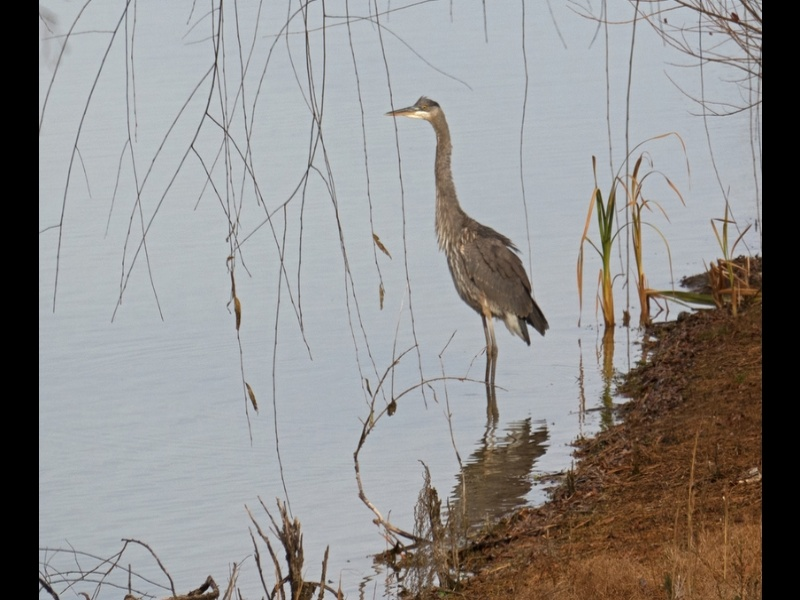heron: (387, 92, 551, 391)
